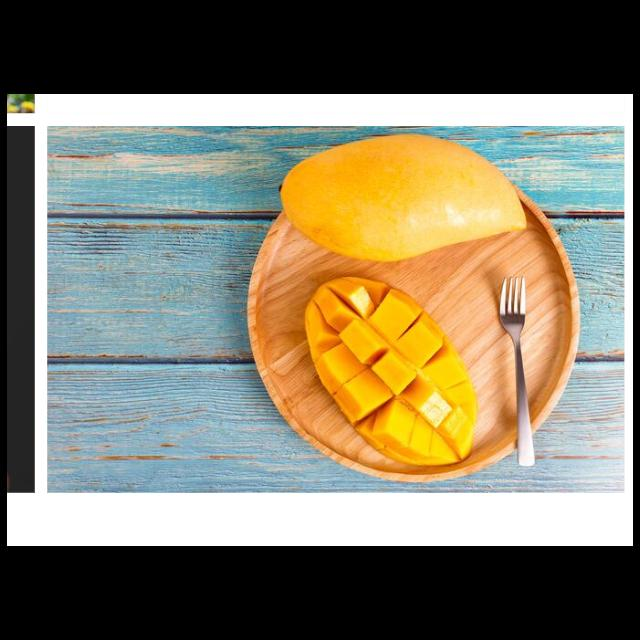mango: (282, 129, 526, 260)
